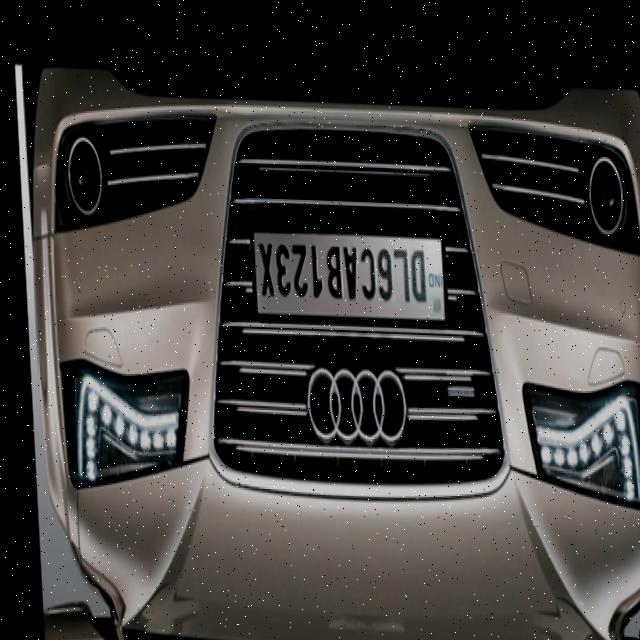plate: (251, 228, 441, 320)
